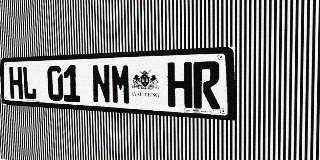0: (47, 65, 63, 101)
1: (63, 65, 80, 102)
H: (167, 62, 192, 108), (9, 66, 23, 99)
L: (22, 66, 37, 100)
M: (111, 63, 131, 105)
N: (91, 64, 111, 104)
R: (193, 61, 220, 110)
